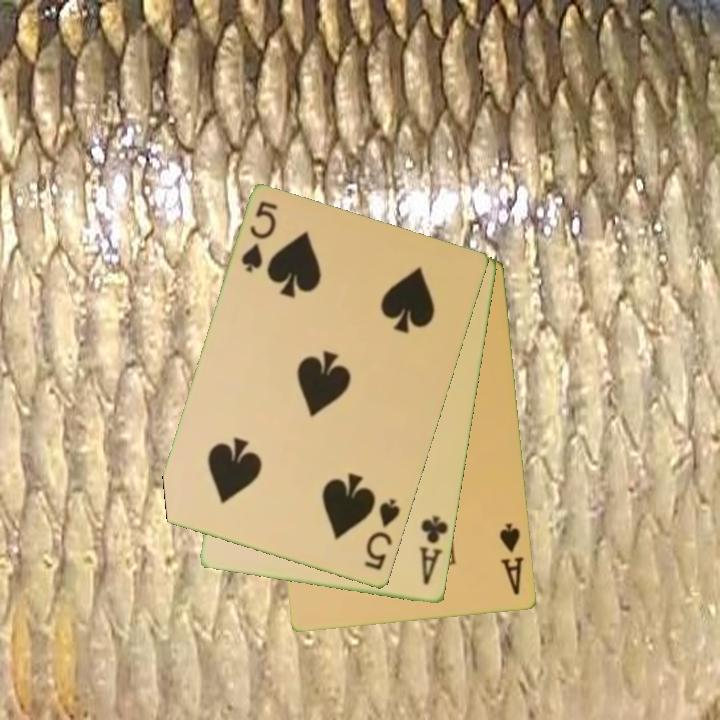5s: (361, 495, 404, 574), (238, 198, 281, 276)
Ac: (416, 513, 452, 588)
As: (497, 520, 528, 598)
